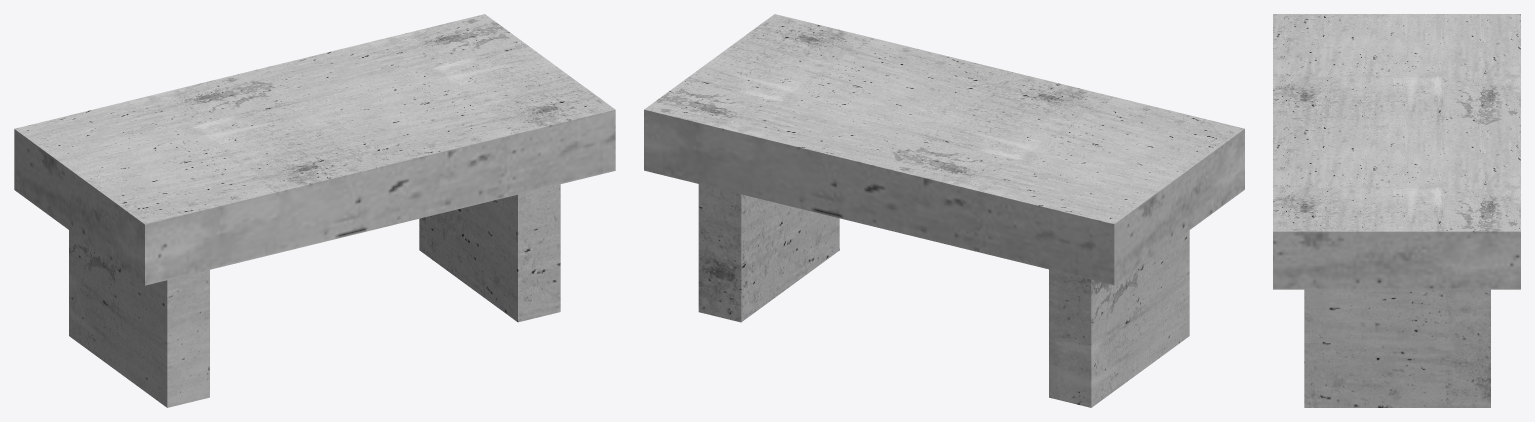
The model's file is Banco.obj.
The picture shows the model from 3 angles, left to right: view 1: azimuth 30°, elevation 25°; view 2: azimuth 150°, elevation 25°; view 3: azimuth 270°, elevation 25°; orthographic projection. The views are drawn at different scales.
Visible parts, largest first — view 1: Cube.001; view 2: Cube.001; view 3: Cube.001.
Part boxes in pixels (x1,y1,x2,y2): Cube.001: [14, 14, 615, 407]; Cube.001: [644, 14, 1244, 407]; Cube.001: [1273, 14, 1520, 407].
Size of the model in its own units: 1.69 by 0.7046 by 0.8149.
